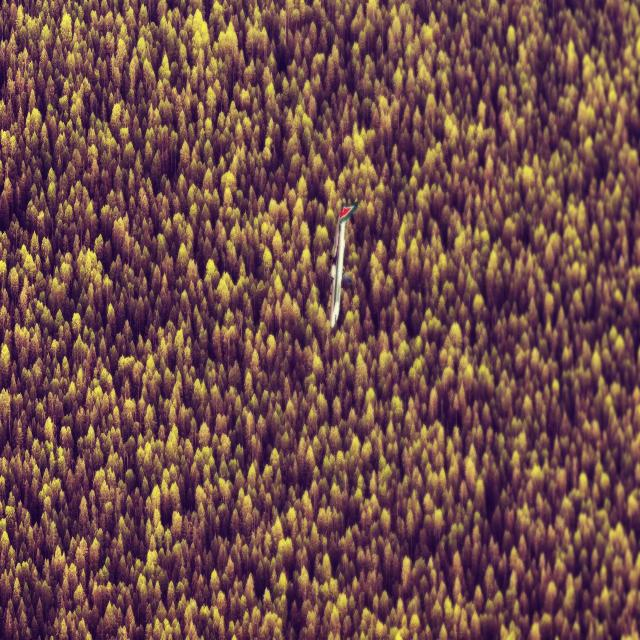airplane: (328, 200, 358, 328)
